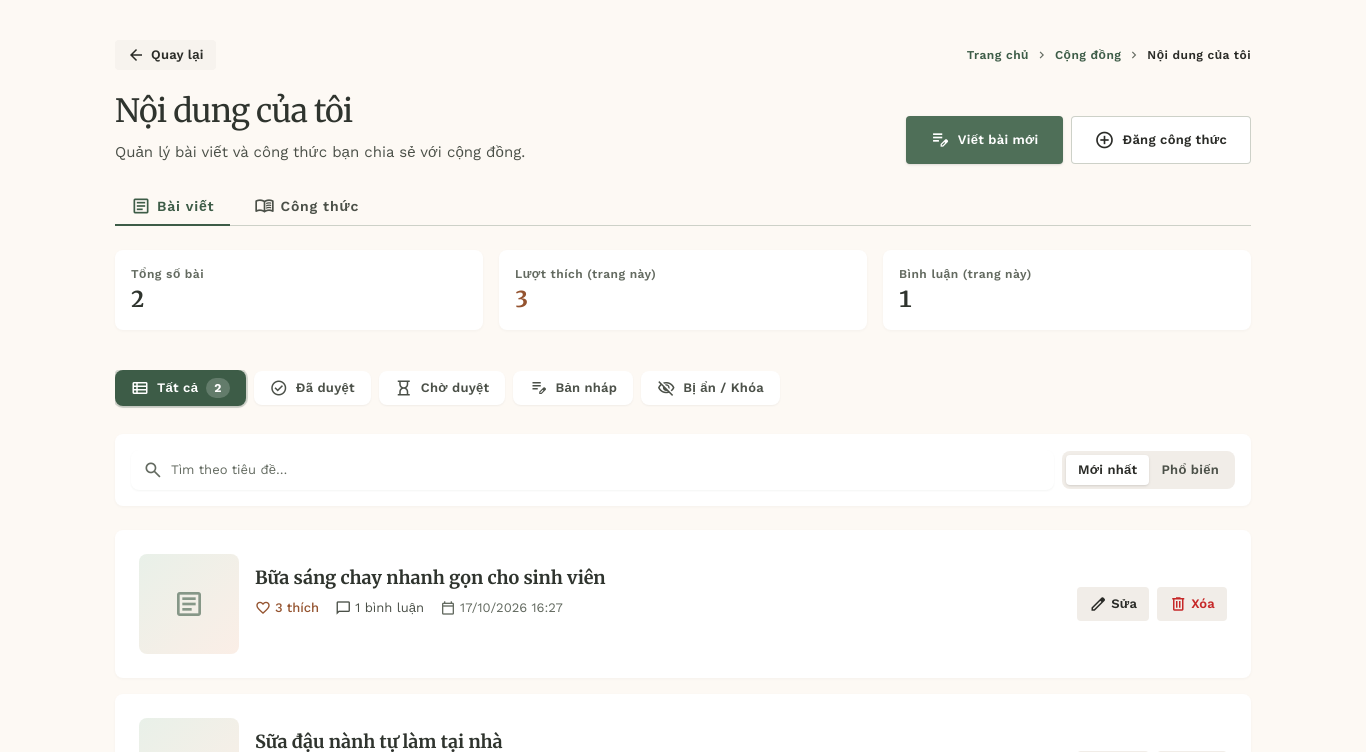
Test: MyContent (Nội dung của tôi) › Thành viên › tab Công thức báo đang phát triển và không gọi GET /recipes
Click the tab "Công thức": (307, 207) [238, 188, 375, 226]
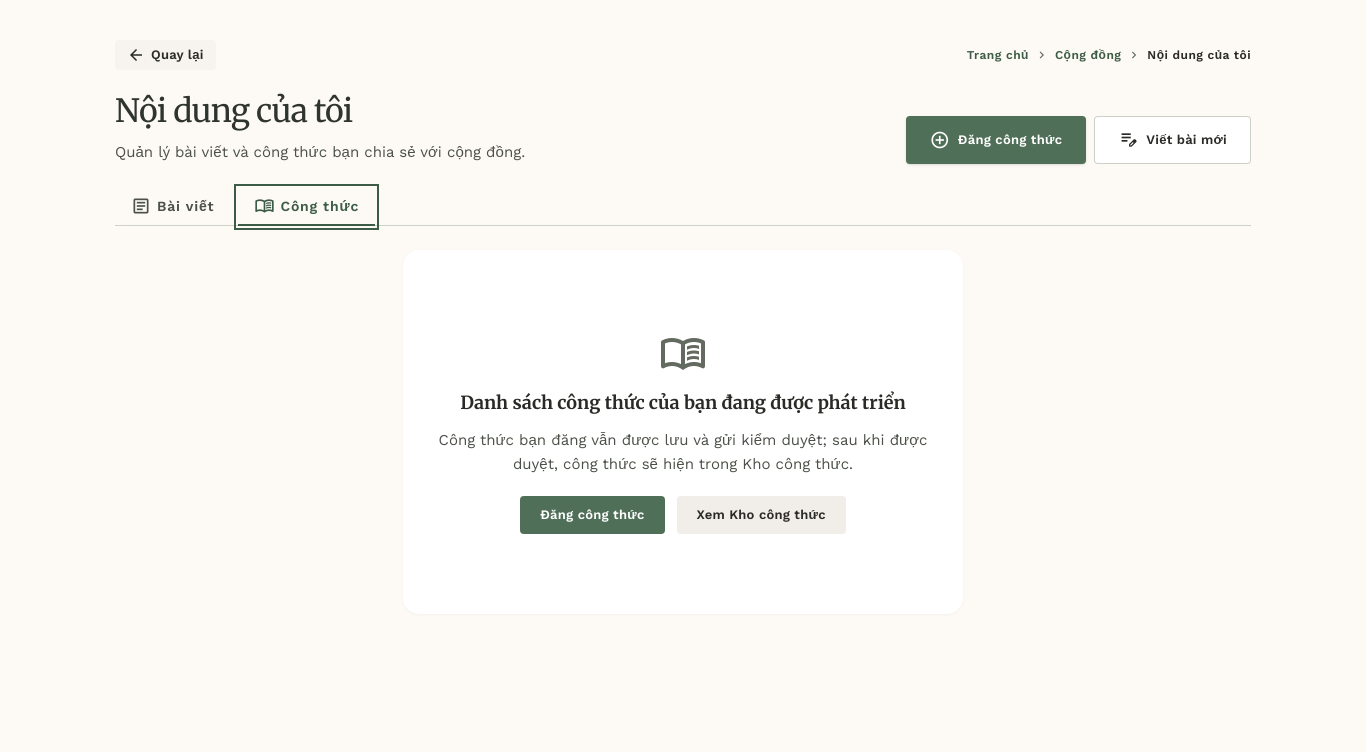
expect the heading "Danh sách công thức của bạn đang được phát triển" is shown: met, box [460, 390, 906, 416]
